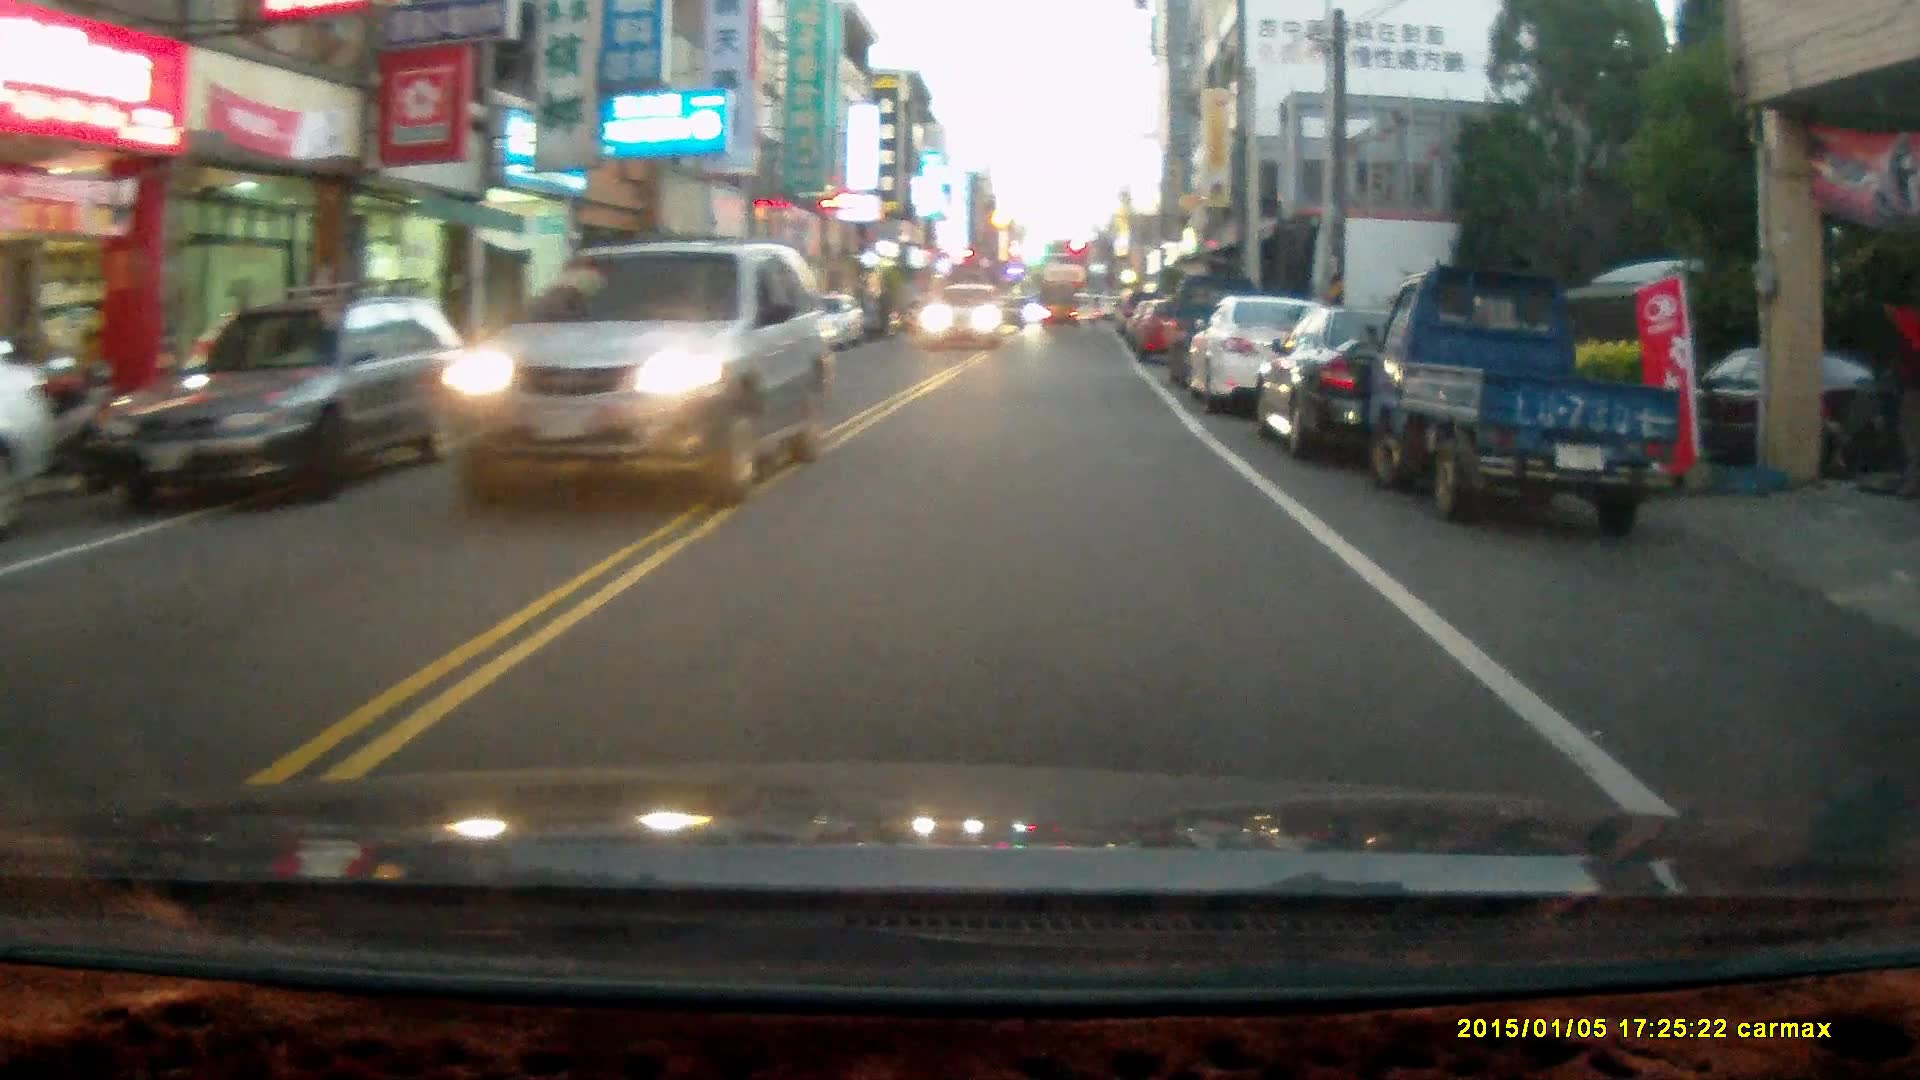pedestrian: (1866, 295, 1920, 501)
vehicle: (427, 236, 848, 508), (1366, 271, 1696, 544), (93, 286, 488, 508), (1259, 309, 1514, 467), (1181, 301, 1346, 417), (924, 286, 1007, 356), (1035, 288, 1079, 337)
